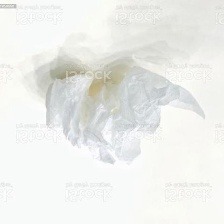tissue: (38, 53, 210, 171)
